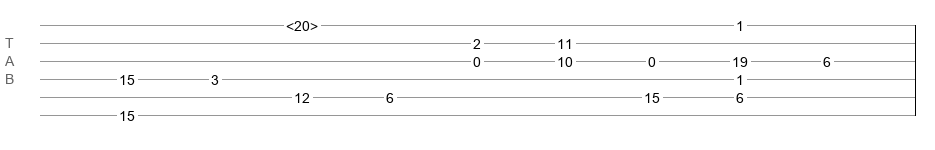0: (473, 54, 481, 64), (648, 54, 656, 64)
1: (736, 18, 744, 28), (736, 72, 744, 82)
10: (557, 54, 573, 64)
11: (557, 36, 573, 46)
12: (294, 90, 310, 100)
15: (119, 108, 135, 118), (119, 72, 135, 82), (644, 90, 660, 100)
19: (732, 54, 748, 64)
2: (473, 36, 481, 46)
3: (211, 72, 219, 82)
6: (386, 90, 394, 100), (736, 90, 744, 100), (823, 54, 831, 64)
harmonic: (286, 18, 318, 28)
